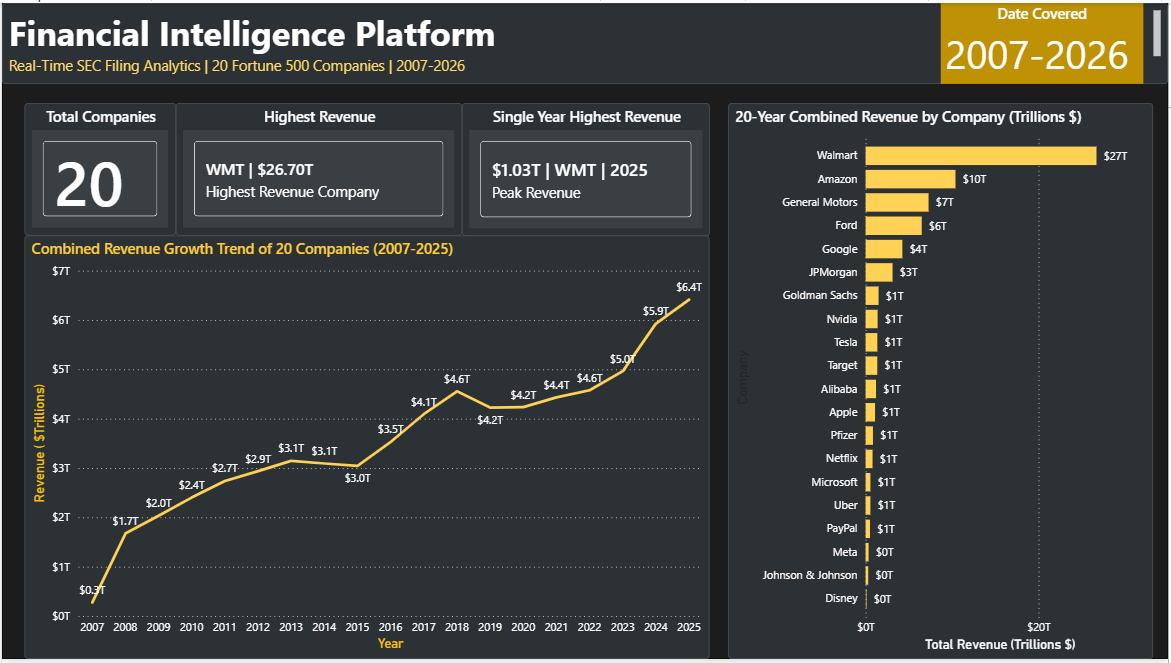

The page's visual inventory and layout, read from the dashboard file:
{"tool":"powerbi","page":{"name":"Revenue Overview","canvas":[1280,720],"ordinal":0},"visuals":[{"type":"textbox","box":[0,0,1280.3,89.2],"z":0},{"type":"cardVisual","title":"Single Year Highest Revenue","fields":{"Data":["revenue_metrics.Peak Revenue"]},"box":[504.6,109.2,272.4,146.6],"z":1000},{"type":"cardVisual","title":"Highest Revenue","fields":{"Data":["revenue_metrics.20 Year Revenue Champion"]},"box":[190.7,109.8,314.2,145.5],"z":2000},{"type":"cardVisual","title":"Total Companies","fields":{"Data":["Count(revenue_metrics.Company)"]},"box":[24.7,109.8,166,145.5],"z":3000},{"type":"textbox","title":"Date Covered","box":[1030.5,0,222.3,89.2],"z":4000},{"type":"clusteredBarChart","title":"20-Year Combined Revenue by Company (Trillions $)","fields":{"Y":["Sum(revenue_metrics.Total Revenue)"],"Category":["revenue_metrics.Company"]},"box":[797.3,109.8,466.6,610.6],"z":5000},{"type":"lineChart","title":"Combined Revenue Growth Trend of 20 Companies (2007-2025)","fields":{"Category":["revenue_metrics.Year"],"Y":["Sum(revenue_metrics.Total Revenue)"]},"box":[24.9,255.8,752.1,464.6],"z":6000}]}

Visuals, with their boxes in screenshot pixels (x1, y1, x2, y2), scaled from the page's 1280x720 canvas onto the 1171x663 screenshot:
textbox: box=[0, 0, 1170, 82]
"Single Year Highest Revenue" cardVisual: box=[462, 101, 711, 236]
"Highest Revenue" cardVisual: box=[174, 101, 462, 235]
"Total Companies" cardVisual: box=[23, 101, 174, 235]
"Date Covered" textbox: box=[943, 0, 1146, 82]
"20-Year Combined Revenue by Company (Trillions $)" clusteredBarChart: box=[729, 101, 1156, 662]
"Combined Revenue Growth Trend of 20 Companies (2007-2025)" lineChart: box=[23, 236, 711, 662]
